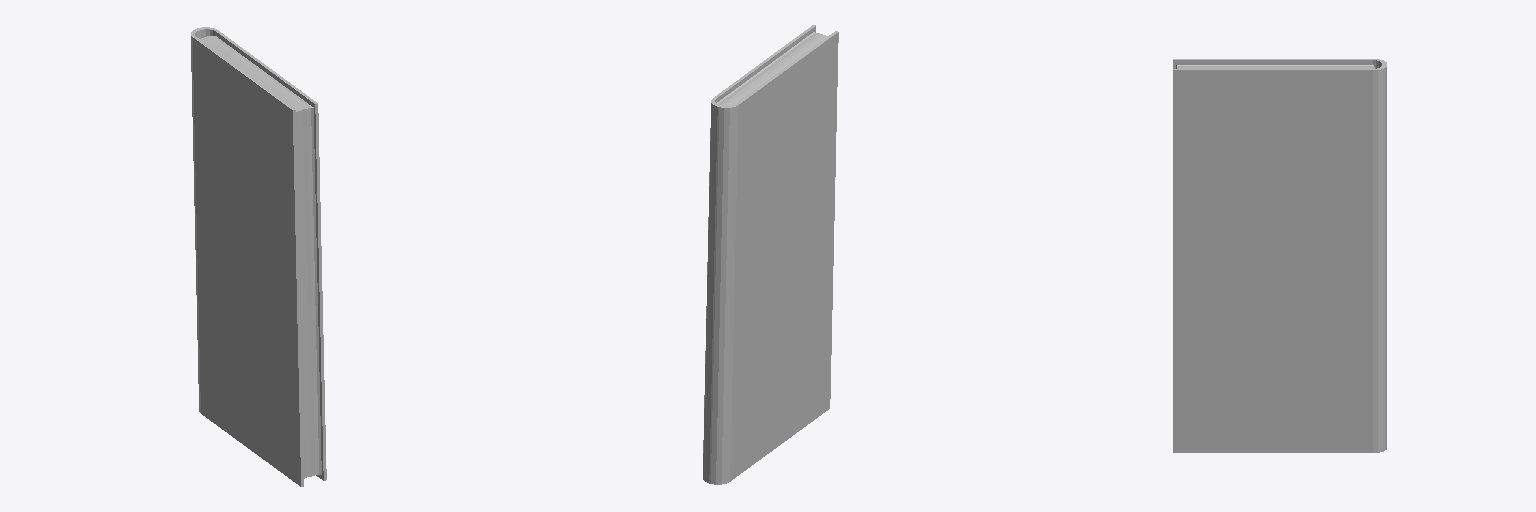
File: SetA_Book_Style_01.obj
3 views of the same model, side by side, from view 1: azimuth 30°, elevation 25°; view 2: azimuth 150°, elevation 25°; view 3: azimuth 270°, elevation 25° (orthographic).
Visible parts, largest first — view 1: SetA_Book_Style_01; view 2: SetA_Book_Style_01; view 3: SetA_Book_Style_01.
Boxes of the visible parts, <box> form: SetA_Book_Style_01: <box>191,27,326,486</box>; SetA_Book_Style_01: <box>703,25,838,484</box>; SetA_Book_Style_01: <box>1173,59,1386,452</box>.
Bounding box in the file's own units: 0.025 × 0.2662 × 0.1366.